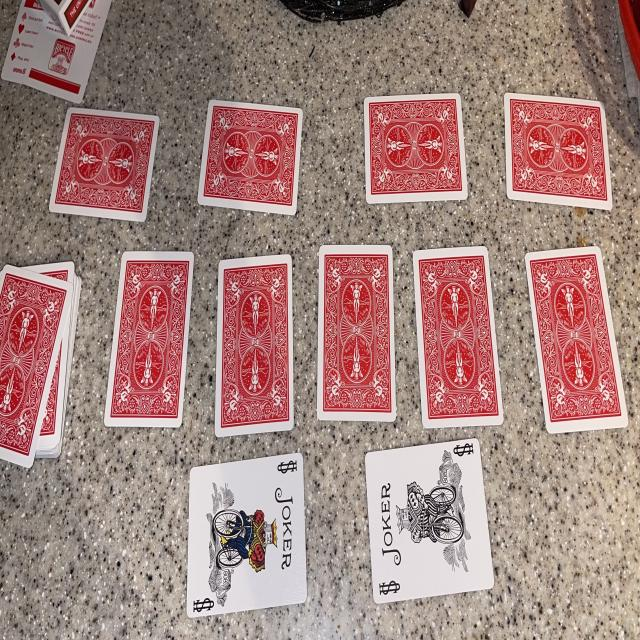Joker: (365, 440, 494, 602), (186, 453, 306, 618)
card back: (525, 247, 628, 433), (414, 249, 502, 427), (105, 251, 194, 427), (215, 256, 294, 436), (0, 267, 71, 467), (318, 244, 396, 422), (50, 107, 159, 222), (504, 93, 612, 209), (198, 100, 302, 216), (364, 93, 468, 204), (39, 322, 70, 449), (30, 262, 75, 282)
